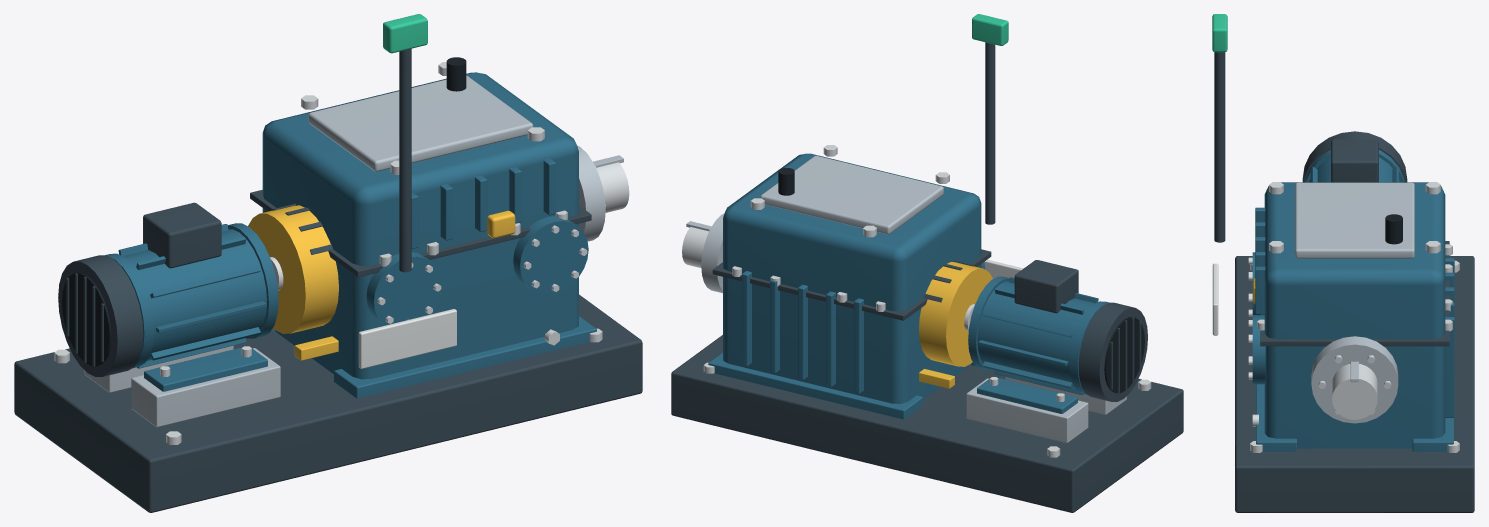
The model's file is Equipment_GR.fbx.
The picture shows the model from 3 angles, left to right: view 1: azimuth 30°, elevation 25°; view 2: azimuth 150°, elevation 25°; view 3: azimuth 270°, elevation 25°; orthographic projection. The views are drawn at different scales.
Visible parts, largest first — view 1: Skid, GearHousing, GearInspectionCover, MotorBody.001, CouplingGuard, MotorPedestal, FanCover.001, GearMountFlange, BearingCover.001, TerminalBox.001, BlankNameplate_GR, BearingCover (+16 smaller); view 2: Skid, GearHousing, GearInspectionCover, MotorBody.001, CouplingGuard, MotorPedestal.001, FanCover.001, GearMountFlange.001, TerminalBox.001, IndicatorSupport_GR, MotorMountFoot.001, FanGrilleRecess.001 (+14 smaller); view 3: GearHousing, Skid, GearInspectionCover, OutputFlange, IndicatorSupport_GR, TerminalBox.001, OutputShaftMesh, SplitHousingSeam, FanCover.001, GearMountFlange, HousingRib.004, BearingCover.001 (+7 smaller).
Part boxes in pixels (<box>): Skid: <box>14,294,642,512</box>; GearHousing: <box>262,72,578,379</box>; GearInspectionCover: <box>308,75,533,171</box>; MotorBody.001: <box>123,229,266,360</box>; CouplingGuard: <box>248,205,338,333</box>; MotorPedestal: <box>131,348,280,427</box>; FanCover.001: <box>58,255,143,376</box>; GearMountFlange: <box>334,316,596,398</box>; BearingCover.001: <box>513,216,588,294</box>; TerminalBox.001: <box>143,202,221,268</box>; BlankNameplate_GR: <box>358,309,456,368</box>; BearingCover: <box>366,252,442,325</box>; Skid: <box>671,335,1183,512</box>; GearHousing: <box>723,153,981,403</box>; GearInspectionCover: <box>760,155,943,234</box>; MotorBody.001: <box>977,281,1095,388</box>; CouplingGuard: <box>919,262,992,366</box>; MotorPedestal.001: <box>966,378,1088,442</box>; FanCover.001: <box>1078,302,1147,401</box>; GearMountFlange.001: <box>708,352,922,419</box>; TerminalBox.001: <box>1014,260,1078,313</box>; IndicatorSupport_GR: <box>985,42,995,224</box>; MotorMountFoot.001: <box>977,376,1077,413</box>; FanGrilleRecess.001: <box>1104,317,1144,393</box>; GearHousing: <box>1264,182,1445,448</box>; Skid: <box>1235,256,1474,512</box>; GearInspectionCover: <box>1295,182,1414,258</box>; OutputFlange: <box>1311,336,1398,423</box>; IndicatorSupport_GR: <box>1214,52,1225,242</box>; TerminalBox.001: <box>1331,139,1378,182</box>; OutputShaftMesh: <box>1332,364,1377,419</box>; SplitHousingSeam: <box>1260,241,1449,346</box>; FanCover.001: <box>1302,131,1407,182</box>; GearMountFlange: <box>1256,384,1297,451</box>; HousingRib.004: <box>1445,317,1454,417</box>; BearingCover.001: <box>1252,315,1265,384</box>.
Bounding box in the file's own units: 2.51 × 1.96 × 1.2.
